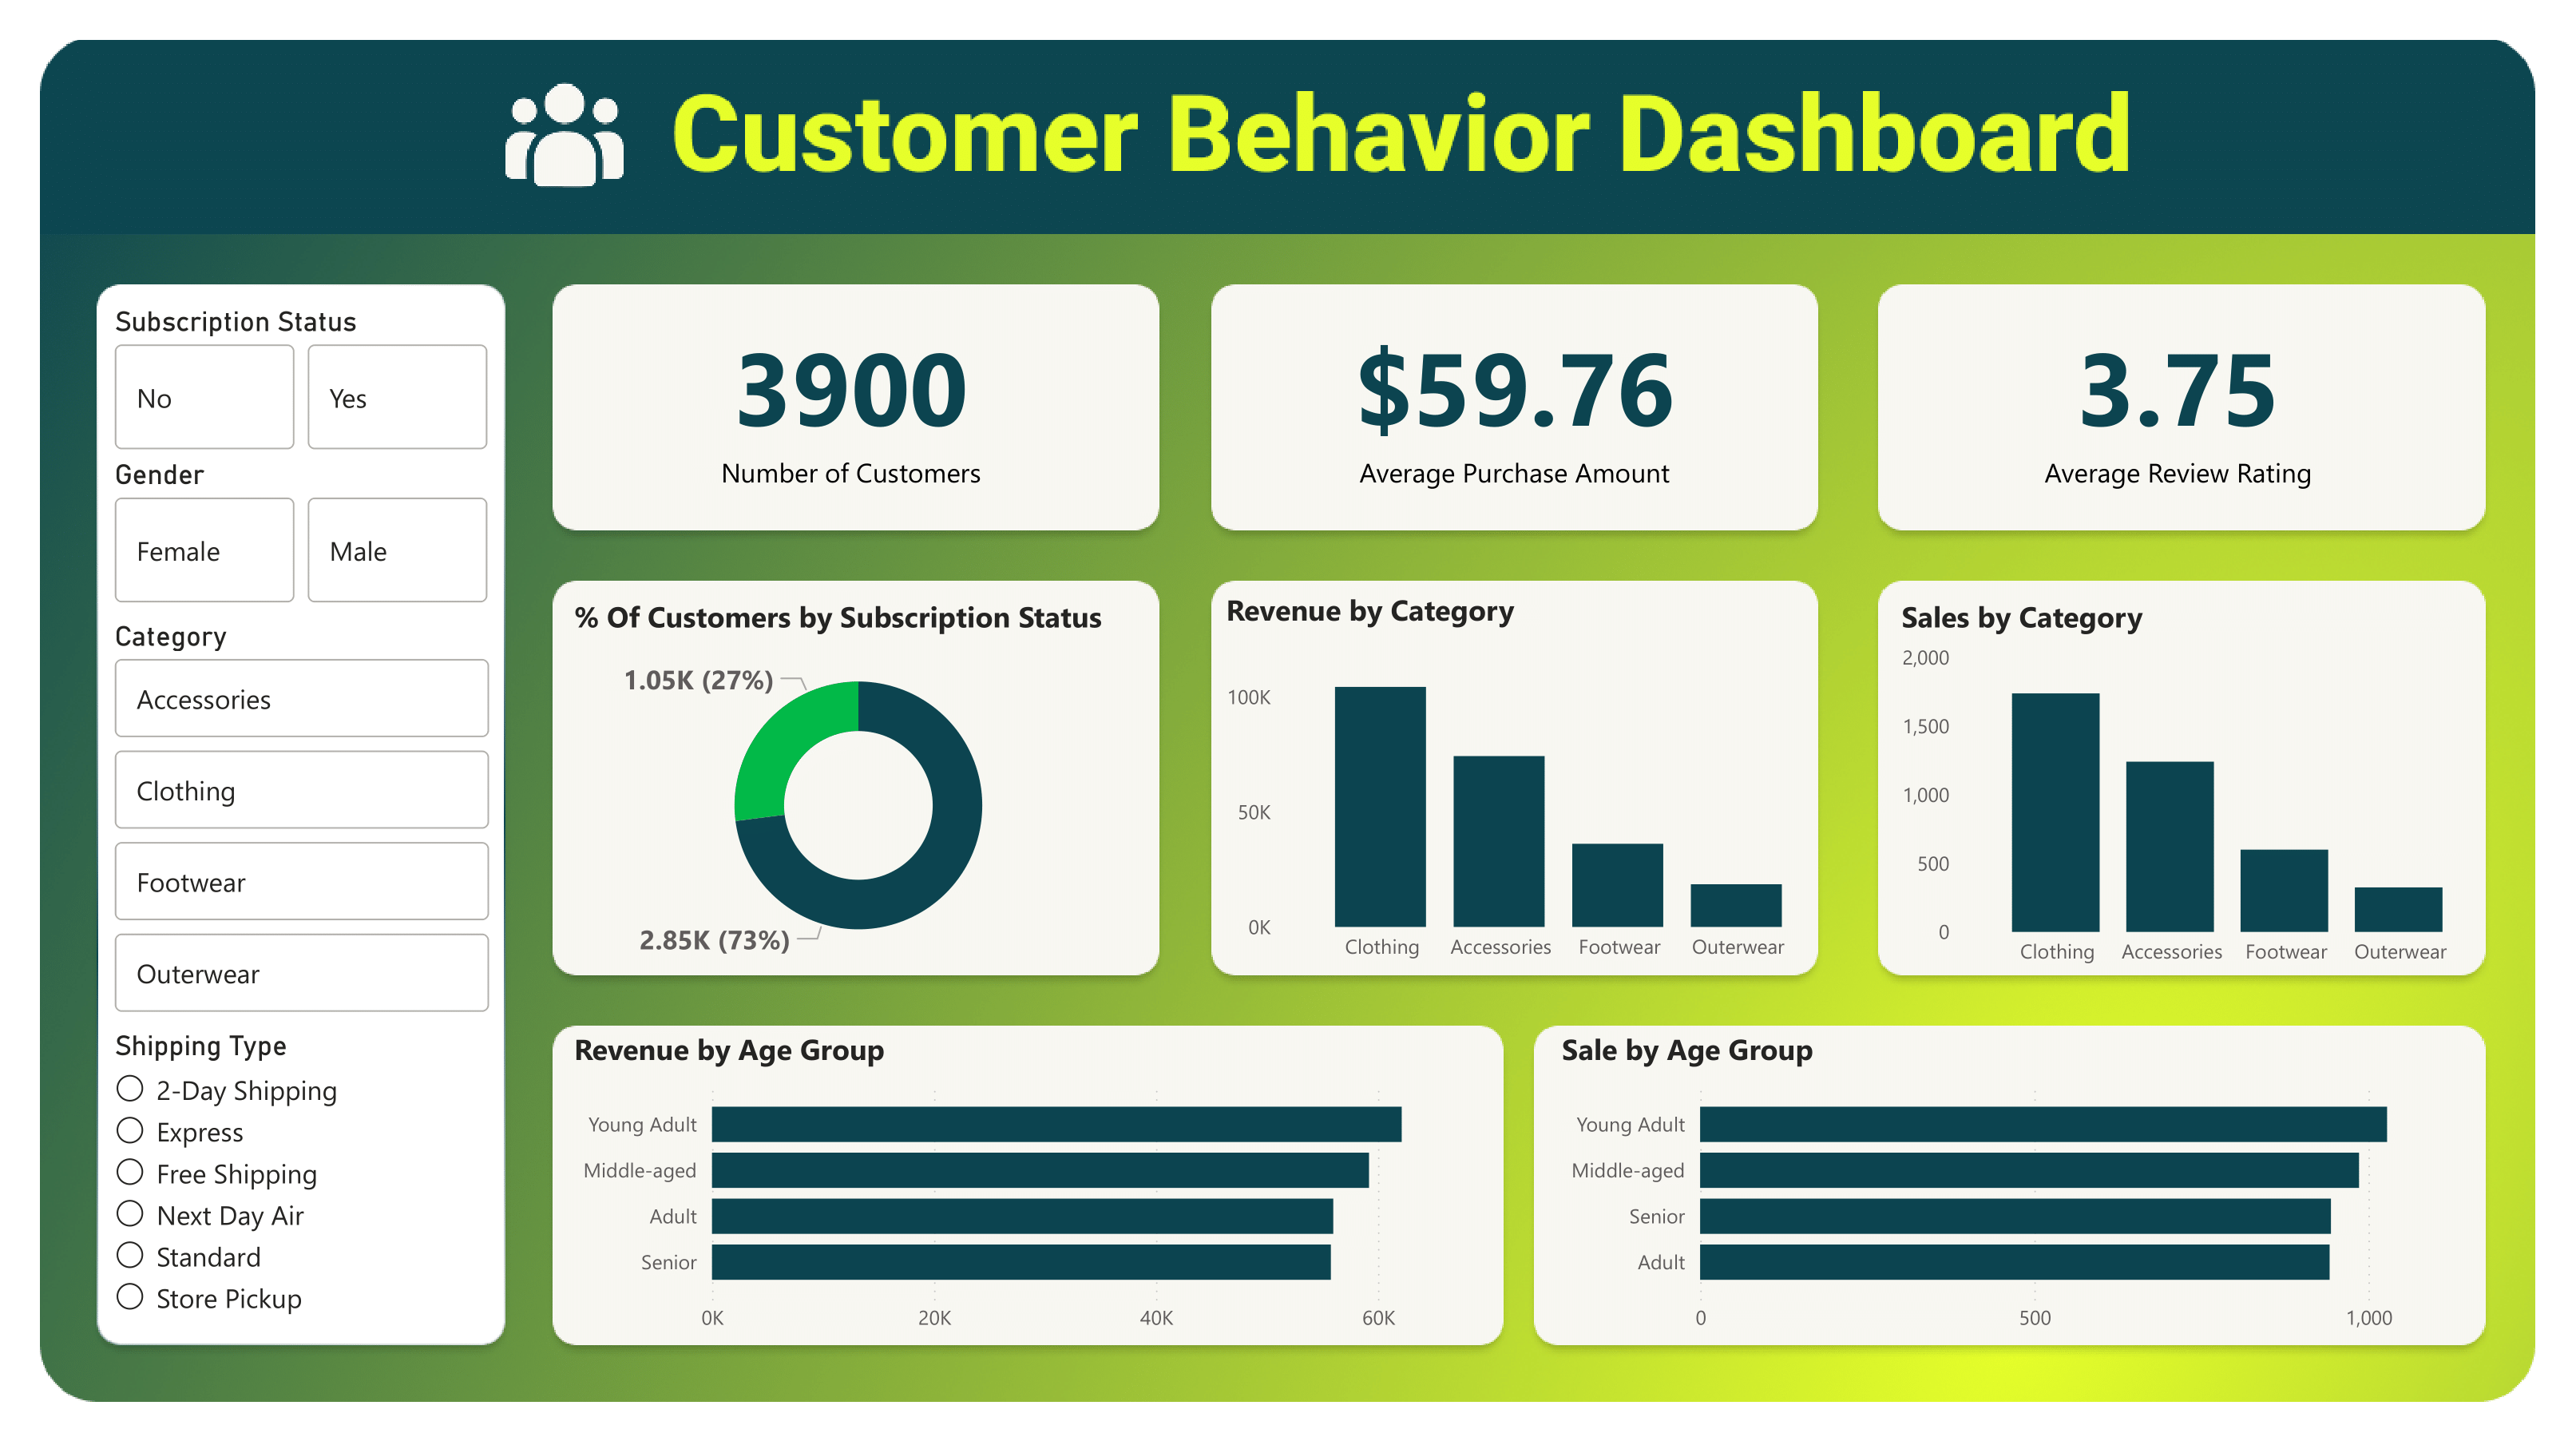

The page's visual inventory and layout, read from the dashboard file:
{"tool":"powerbi","page":{"name":"Page 1","canvas":[1500,820],"ordinal":0},"visuals":[{"type":"cardVisual","fields":{"Data":["public customer.Number of Customers","public customer.Average Purchase Amount","public customer.Average Review Rating"]},"box":[275,140,1225,155],"z":3000},{"type":"donutChart","title":"% Of Customers by Subscription Status","fields":{"Category":["public customer.subscription_status"],"Y":["CountNonNull(public customer.customer_id)"]},"box":[316.2,333.8,351.2,228.8],"z":4000},{"type":"clusteredColumnChart","title":"Revenue by Category","fields":{"Y":["Sum(public customer.purchase_amount)"],"Category":["public customer.category"]},"box":[707.5,330,375,232.5],"z":7000},{"type":"clusteredColumnChart","title":"Sales by Category","fields":{"Category":["public customer.category"],"Y":["CountNonNull(public customer.customer_id)"]},"box":[1113.8,333.8,365,232.5],"z":8000},{"type":"advancedSlicerVisual","title":"Subscription Status","fields":{"Values":["public customer.subscription_status"]},"box":[40,158.8,235,92.5],"z":9000},{"type":"advancedSlicerVisual","title":"Gender","fields":{"Values":["public customer.gender"]},"box":[40,251.2,235,92.5],"z":10000},{"type":"advancedSlicerVisual","title":"Category","fields":{"Values":["public customer.category"]},"box":[40,347.5,235,242.5],"z":11000},{"type":"listSlicer","fields":{"Values":["public customer.shipping_type"]},"box":[40,593.8,235,180],"z":12000},{"type":"clusteredBarChart","title":"Revenue by Age Group","fields":{"Category":["public customer.age_group"],"Y":["Sum(public customer.purchase_amount)"]},"box":[316.2,593.8,560,192.5],"z":13000},{"type":"clusteredBarChart","title":"Sale by Age Group","fields":{"Category":["public customer.age_group"],"Y":["CountNonNull(public customer.customer_id)"]},"box":[910,593.8,590,192.5],"z":14000}]}

Visuals, with their boxes in screenshot pixels (x1, y1, x2, y2):
cardVisual - public customer.Number of Customers x public customer.Average Purchase Amount: box(497, 273, 2536, 531)
"% Of Customers by Subscription Status" donutChart: box(566, 596, 1151, 977)
"Revenue by Category" clusteredColumnChart: box(1217, 590, 1841, 976)
"Sales by Category" clusteredColumnChart: box(1893, 596, 2501, 983)
"Subscription Status" advancedSlicerVisual: box(106, 304, 497, 459)
"Gender" advancedSlicerVisual: box(106, 459, 497, 612)
"Category" advancedSlicerVisual: box(106, 618, 497, 1022)
listSlicer - public customer.shipping_type: box(106, 1029, 497, 1328)
"Revenue by Age Group" clusteredBarChart: box(566, 1029, 1498, 1349)
"Sale by Age Group" clusteredBarChart: box(1554, 1029, 2536, 1349)
